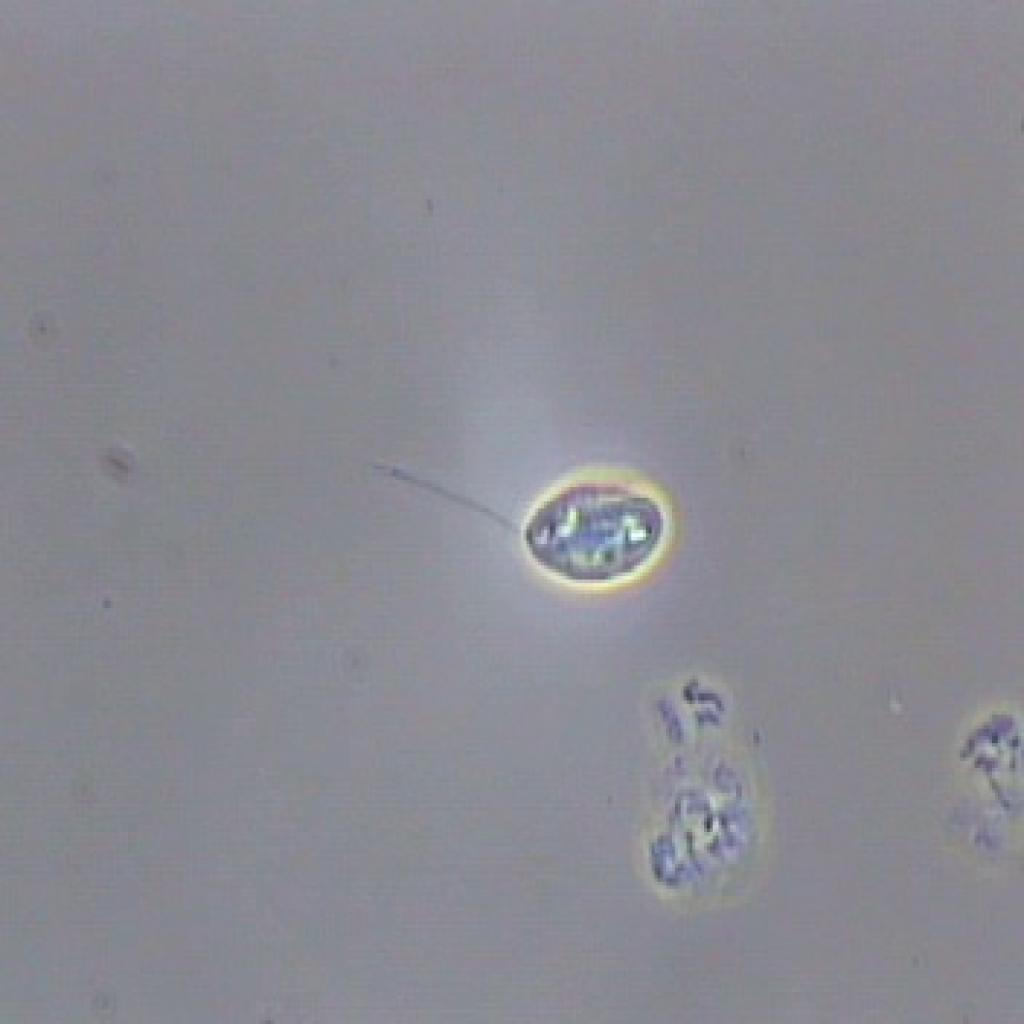Flagellates: (326, 427, 675, 597)
